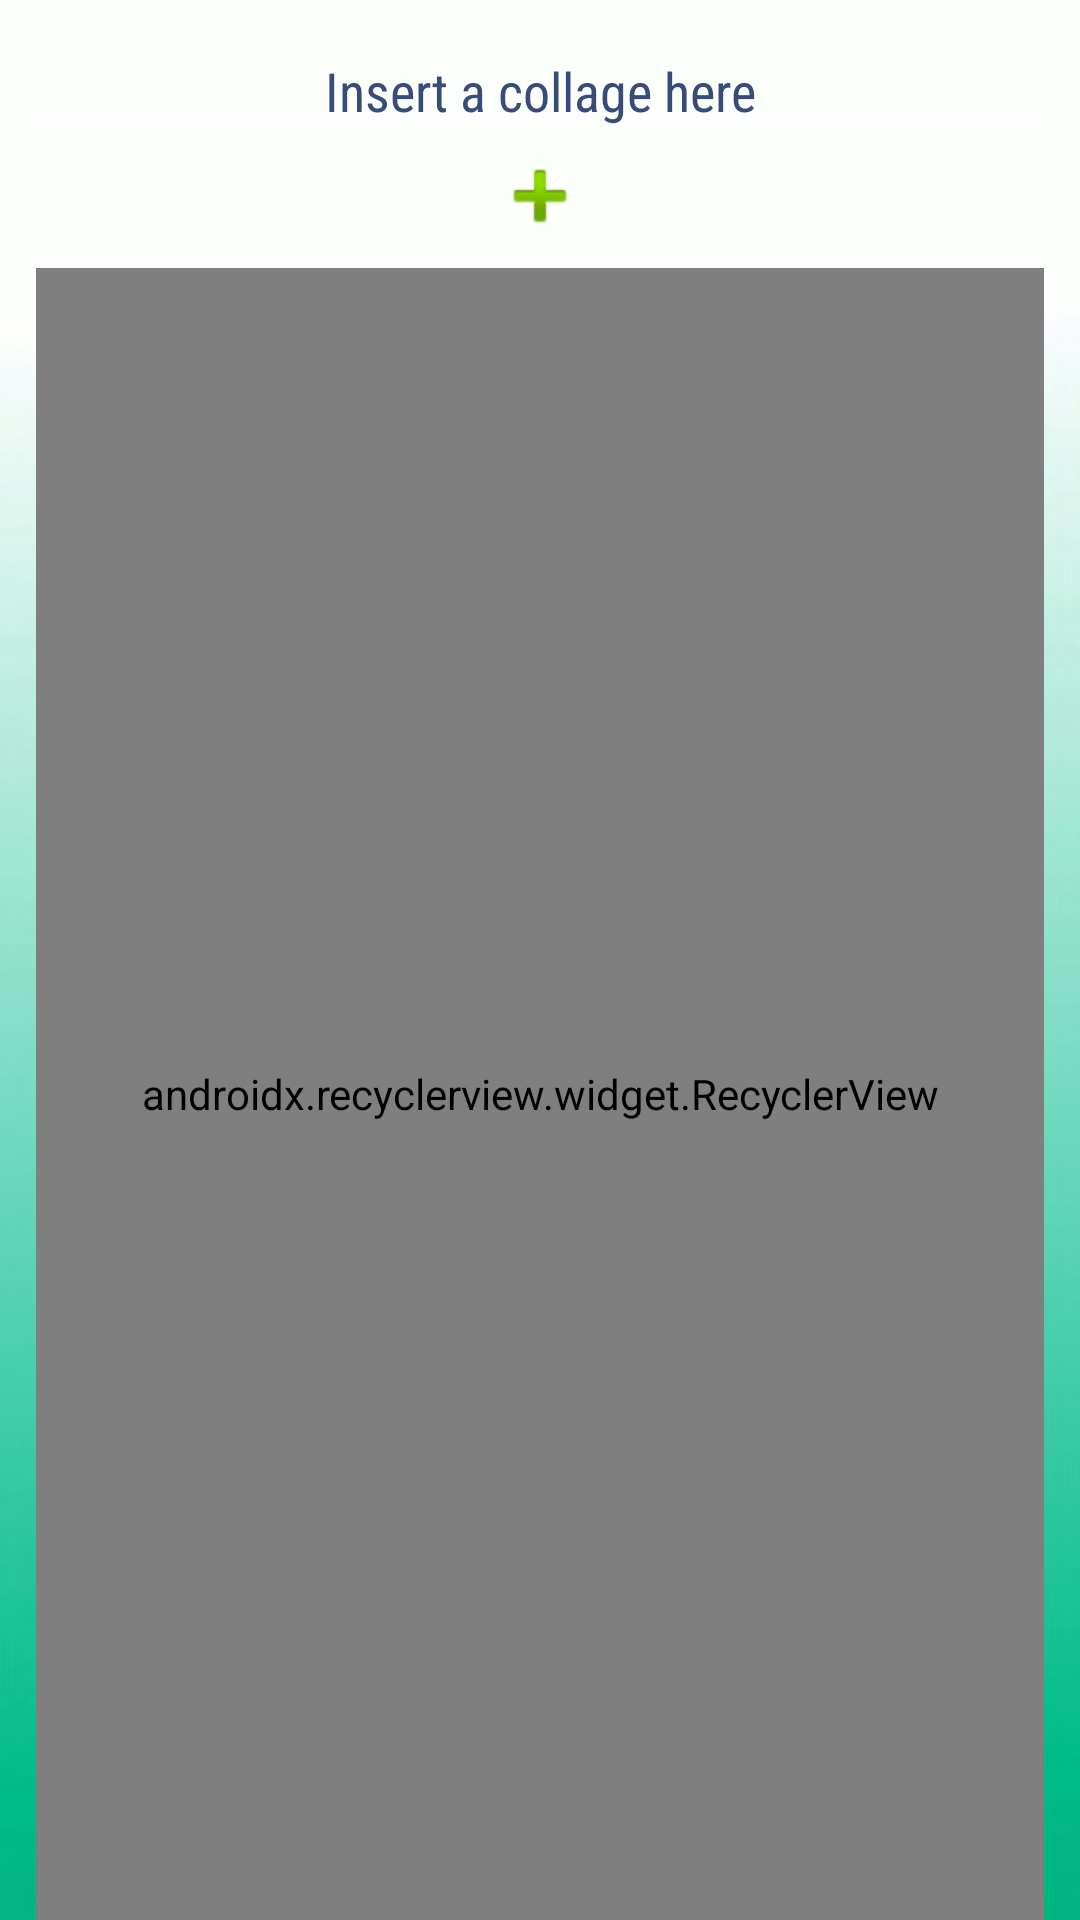

Point at icon controls on the screen. Image size 1080*1920, points as [x,y].
add: [540,196]
